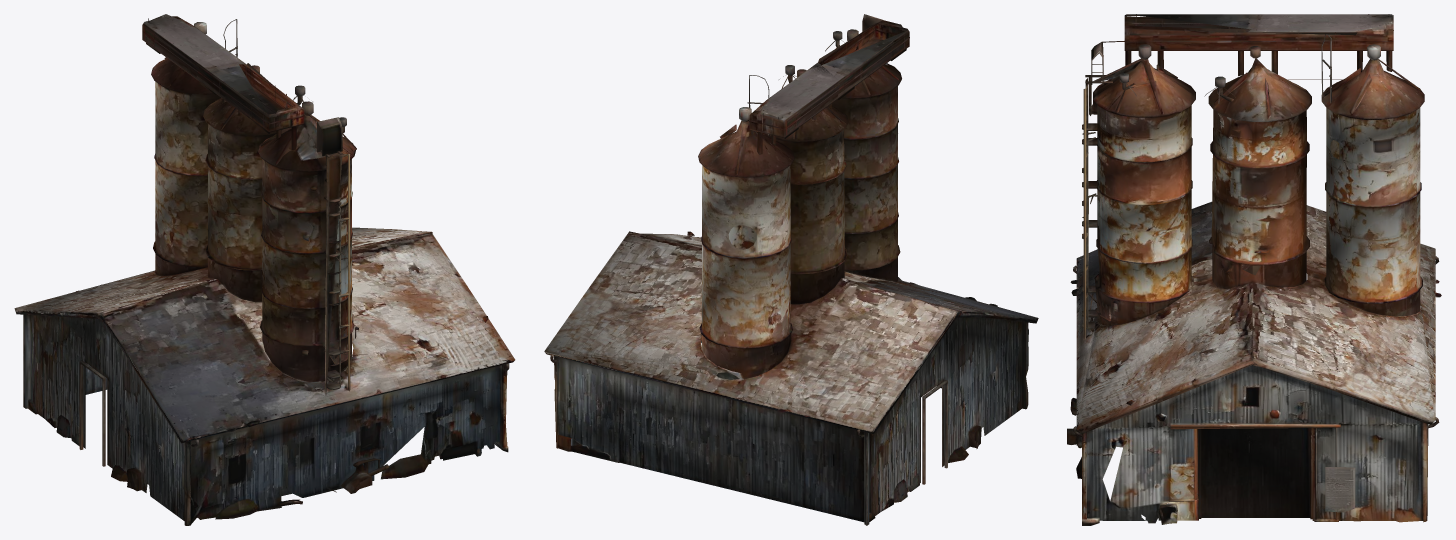
Rendered from site-silos.glb.
The picture shows the model from 3 angles, left to right: view 1: azimuth 30°, elevation 25°; view 2: azimuth 150°, elevation 25°; view 3: azimuth 270°, elevation 25°; orthographic projection. The views are drawn at different scales.
Parts seen in each view (by area): view 1: site-silos; view 2: site-silos; view 3: site-silos.
Boxes of the visible parts, <box> form: site-silos: <box>14,14,515,525</box>; site-silos: <box>544,14,1038,525</box>; site-silos: <box>1067,14,1441,525</box>.
Bounding box in the file's own units: 0.9067 × 0.9995 × 0.8315.
Materials: 1 (1 with a texture image).
